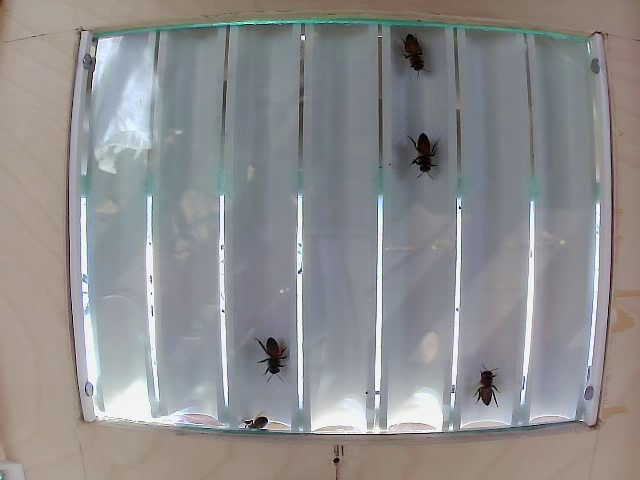bee: (397, 32, 436, 86), (254, 338, 298, 381), (474, 363, 505, 414), (409, 134, 439, 180)
